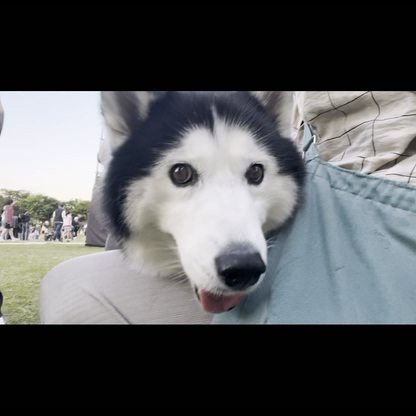husky: (89, 92, 314, 318)
